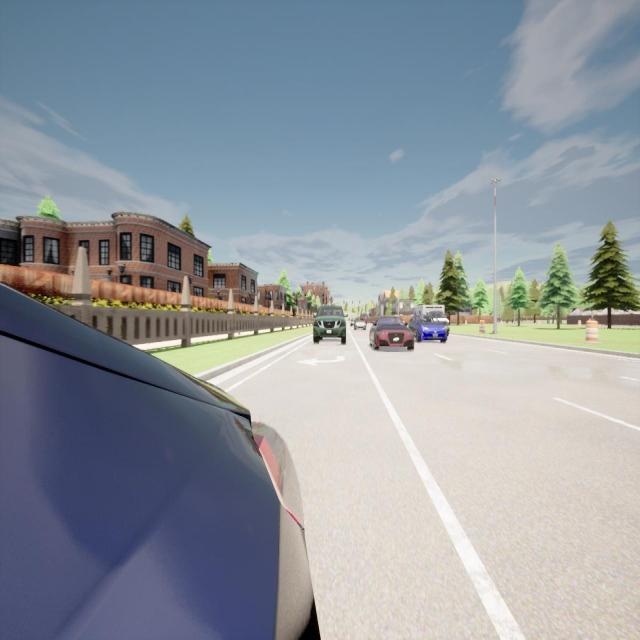Vehicle: (0, 284, 320, 638), (369, 317, 414, 351), (314, 306, 346, 346), (413, 304, 450, 337), (408, 315, 446, 343), (354, 317, 367, 332), (350, 317, 355, 326)
